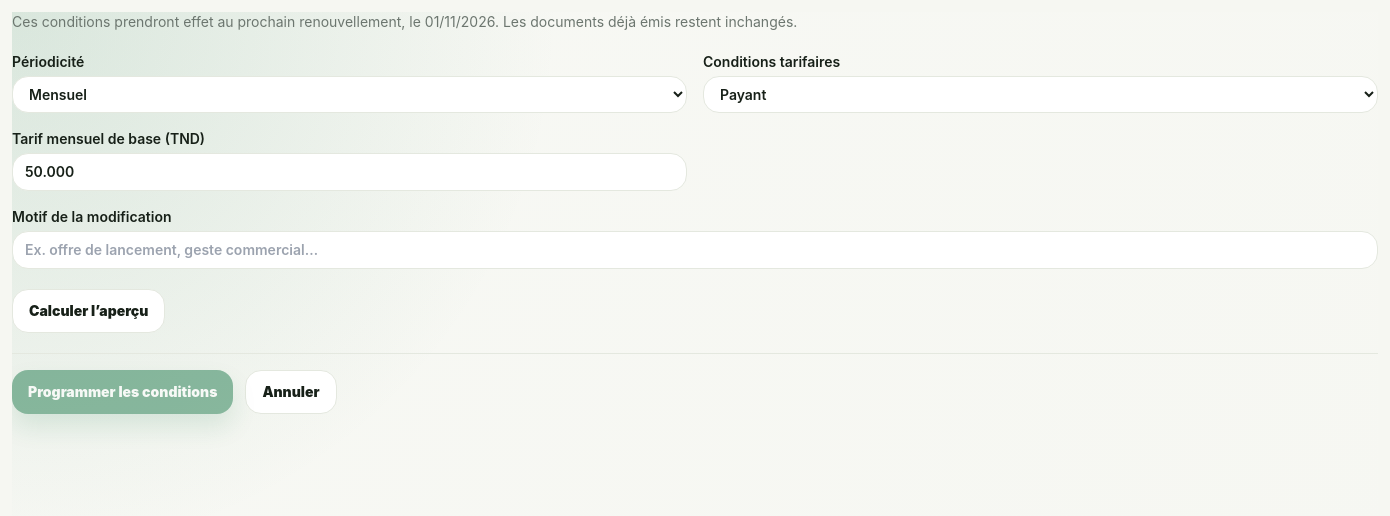
Scenario: SubscriptionPricingForm › keeps editing available after a preview failure without allowing a save
Type "Ajustement" into the field labelled "Motif de la modification" at (695, 250), box [12,231,1378,269]
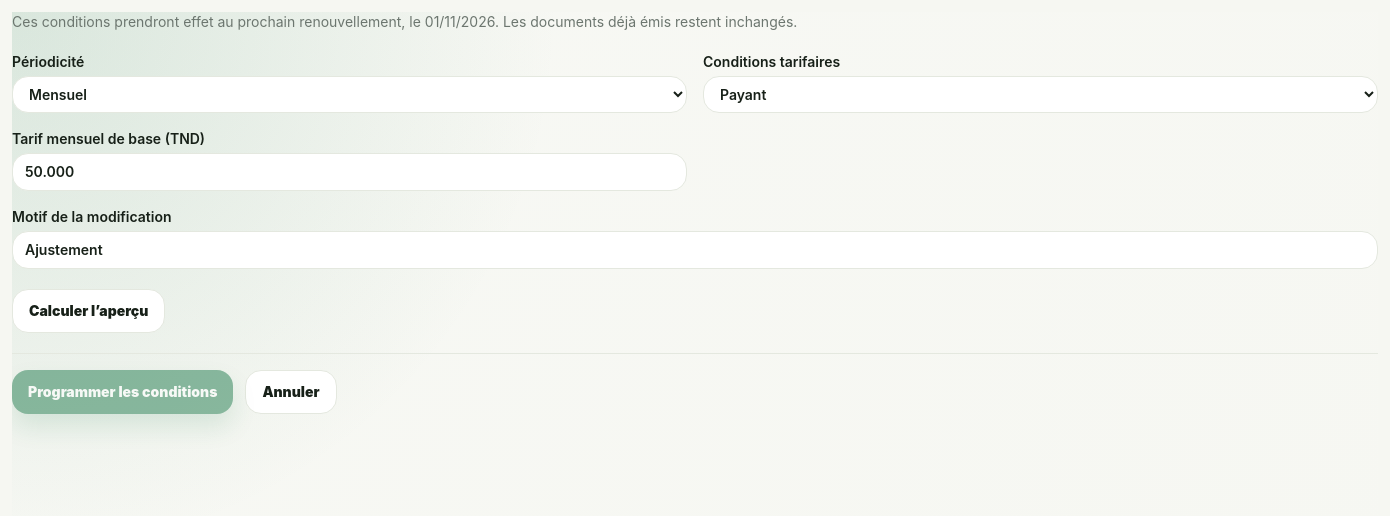
Submit the form named "Calculer l’aperçu"
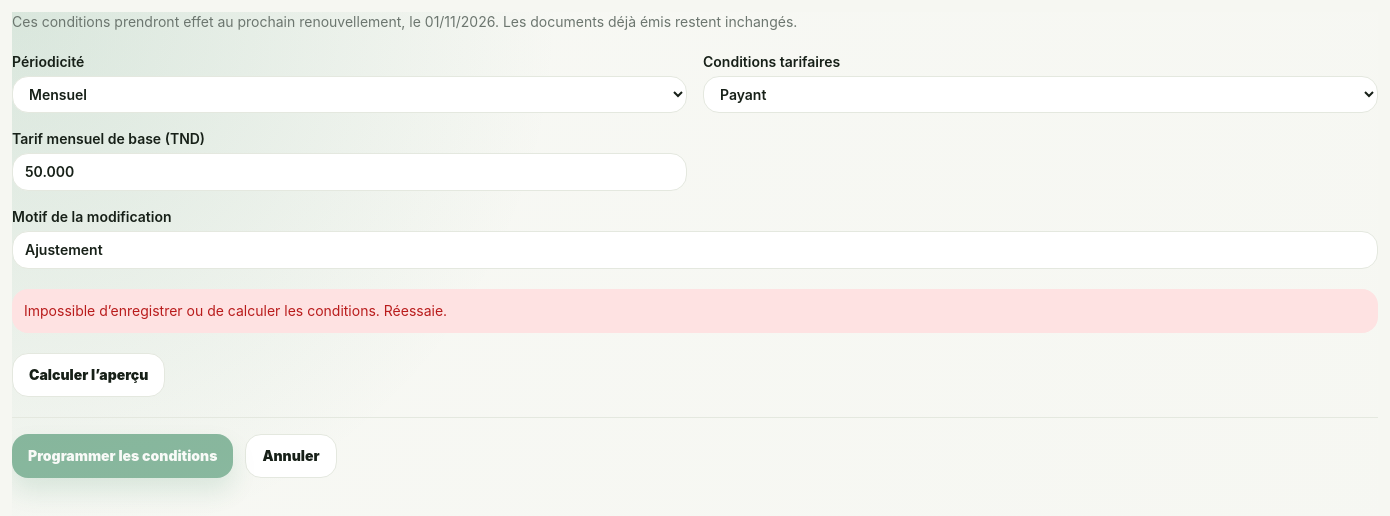
Expected: the button "Programmer les conditions" is disabled, [12,434,233,478]
Result: the message shows "Impossible" at [24,302,447,319]
